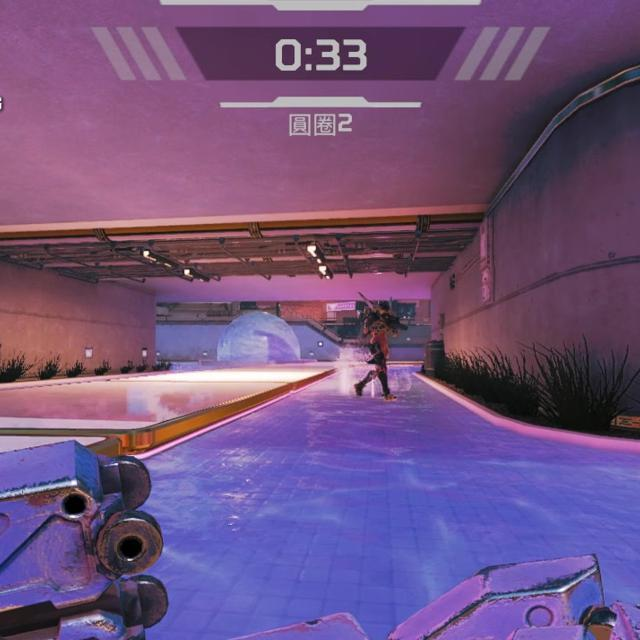avatar: (353, 296, 399, 401)
